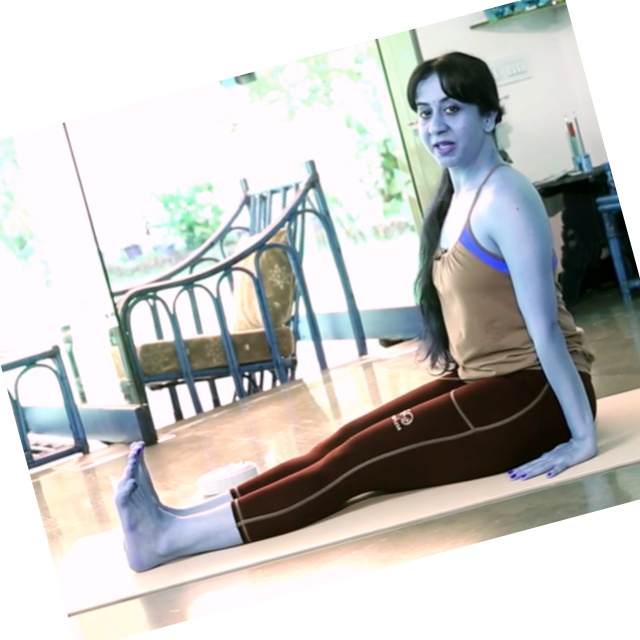Staff_Pose: (110, 50, 601, 577)
